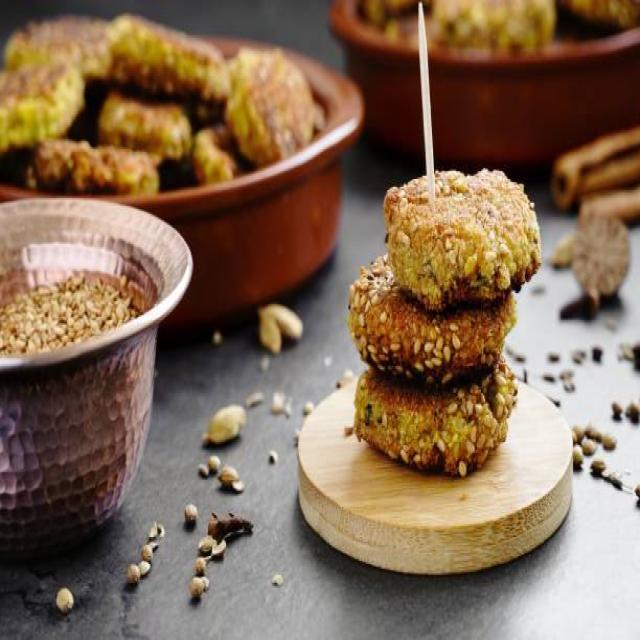taamia: (347, 156, 543, 481), (0, 10, 325, 192)
